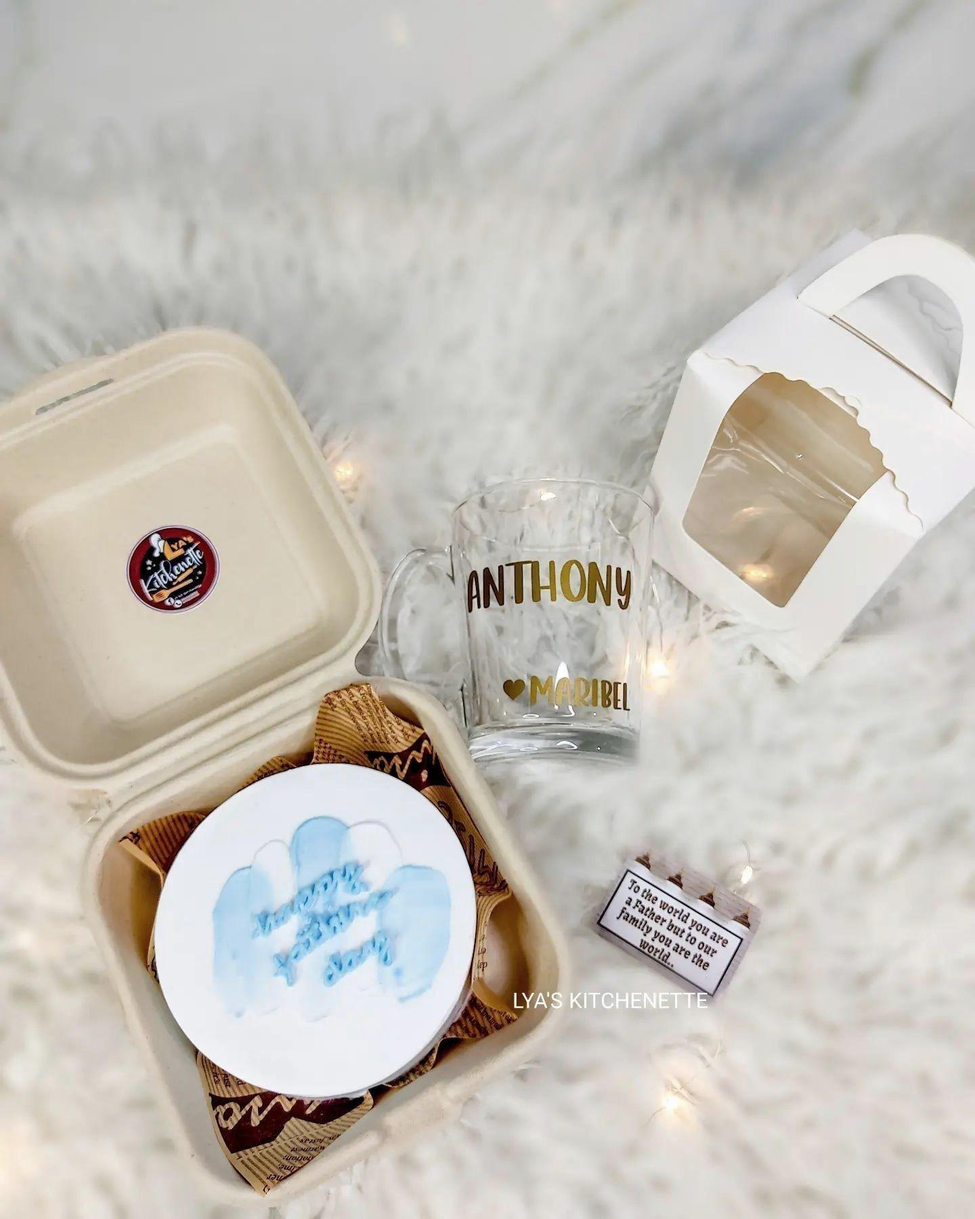glass-mug: (385, 468, 670, 778)
